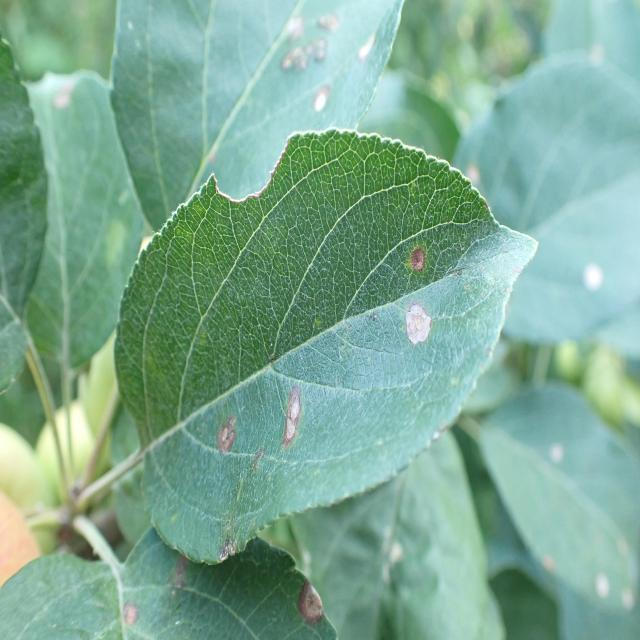frog-eye-leaf-spot: (115, 128, 541, 564), (2, 524, 340, 640)
